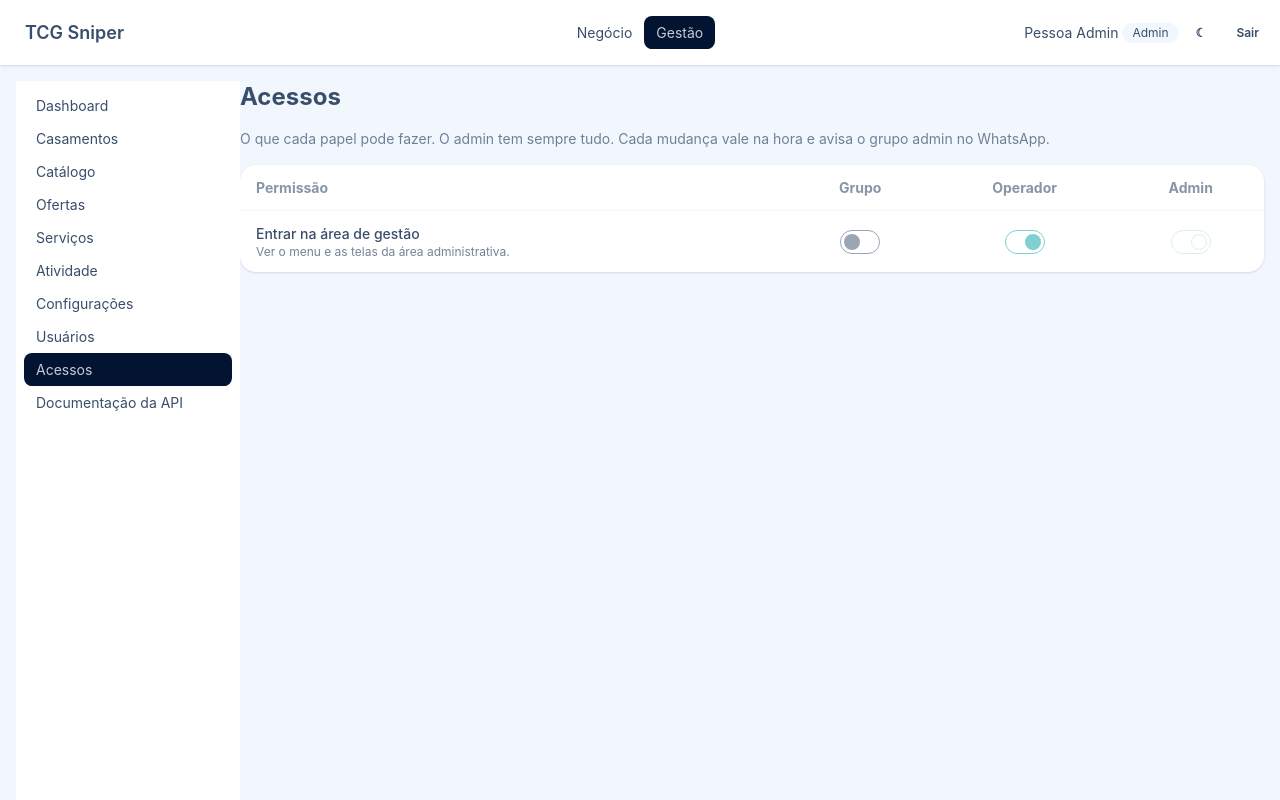
Scenario: Gestão → Acessos › coluna do admin travada; toggle manda PUT e mostra o novo valor
The width and height of the screenshot is (1280, 800).
Expected: the checkbox named "Admin: Entrar na área de gestão" is checked, [1171,230,1211,254]
Expected: the checkbox named "Admin: Entrar na área de gestão" is disabled, [1171,230,1211,254]
What coordinates should you click on to do the following:
click the checkbox named "Grupo: Entrar na área de gestão"
I would click on:
 (860, 242)
Its box is [840,230,880,254].
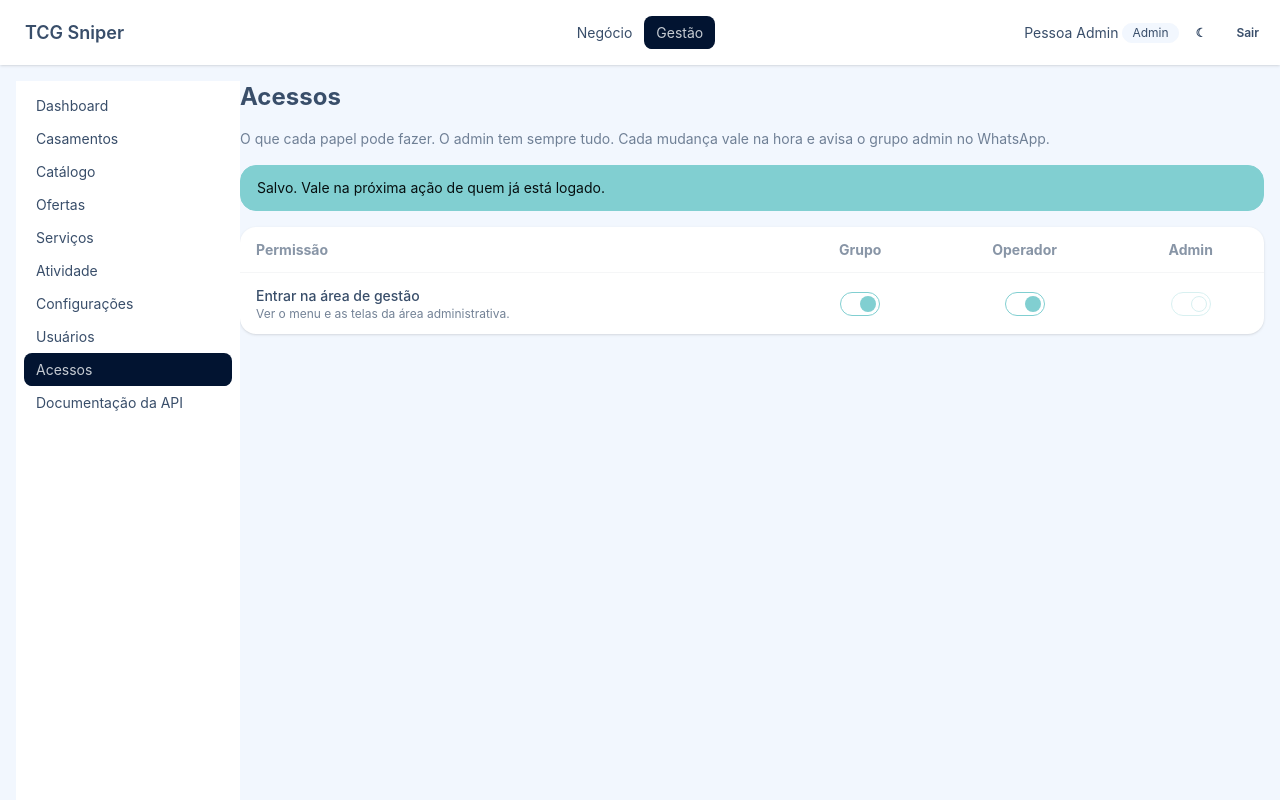
Expected: the checkbox named "Grupo: Entrar na área de gestão" is checked, [840,292,880,316]
Expected: the text "Salvo. Vale na próxima ação de quem já está logado." is shown, [240,165,1264,211]
